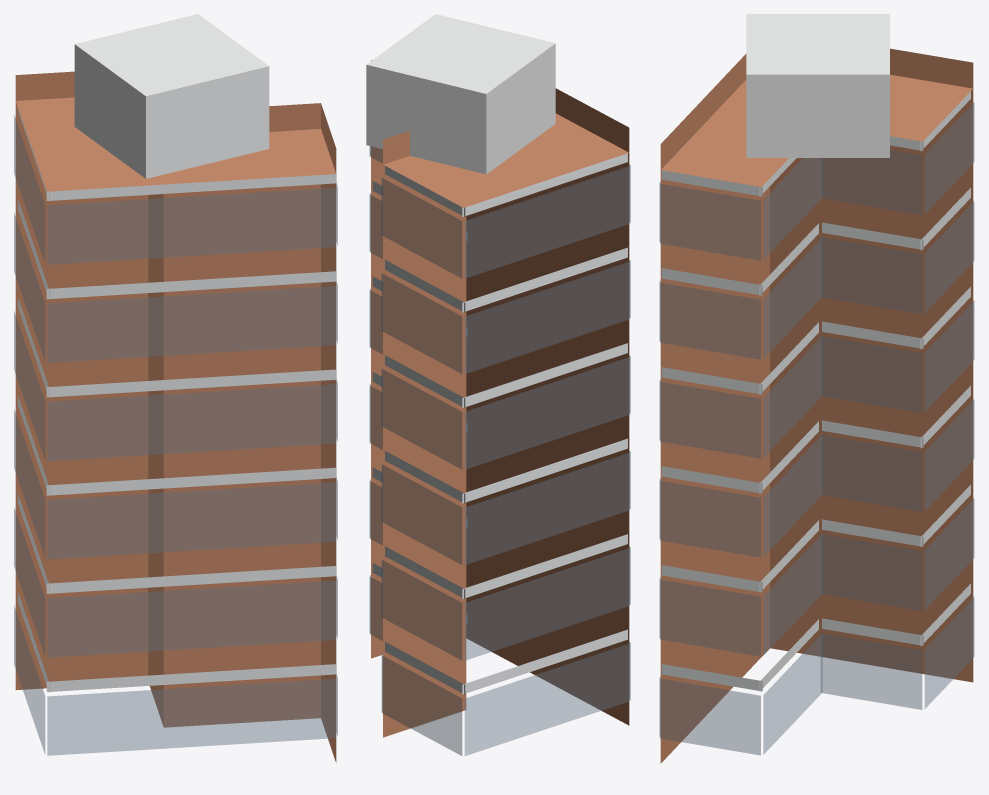
3 views of the same model, side by side, from view 1: azimuth 30°, elevation 25°; view 2: azimuth 150°, elevation 25°; view 3: azimuth 270°, elevation 25° (orthographic). The views are drawn at different scales.
Visible parts, largest first — view 1: ov582_Aliah_Terracotta, ov582_Aliah_Glazing, ov582_Aliah_WhiteLouvre; view 2: ov582_Aliah_Terracotta, ov582_Aliah_Glazing, ov582_Aliah_WhiteLouvre; view 3: ov582_Aliah_Terracotta, ov582_Aliah_Glazing, ov582_Aliah_WhiteLouvre.
Part boxes in pixels (<box>): ov582_Aliah_Terracotta: <box>15,71,336,762</box>; ov582_Aliah_Glazing: <box>14,115,337,755</box>; ov582_Aliah_WhiteLouvre: <box>18,14,335,692</box>; ov582_Aliah_Terracotta: <box>371,60,629,737</box>; ov582_Aliah_Glazing: <box>369,146,630,755</box>; ov582_Aliah_WhiteLouvre: <box>366,14,627,694</box>; ov582_Aliah_Terracotta: <box>660,48,973,763</box>; ov582_Aliah_Glazing: <box>659,101,974,755</box>; ov582_Aliah_WhiteLouvre: <box>661,14,970,691</box>.
Bounding box in the file's own units: 11.04 × 26 × 10.98.
